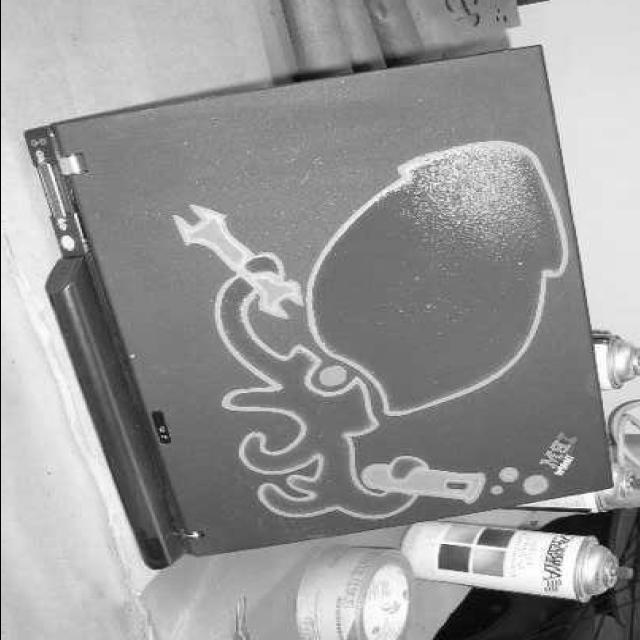laptop: (24, 49, 616, 526)
